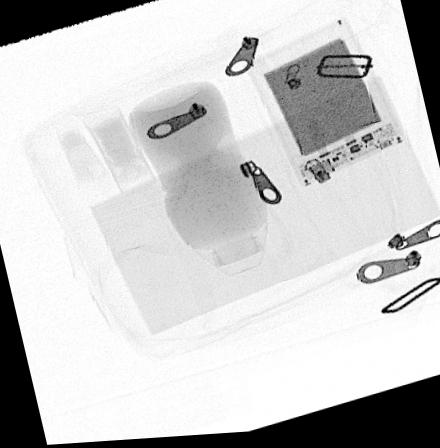Powerbank: (241, 20, 405, 191)
